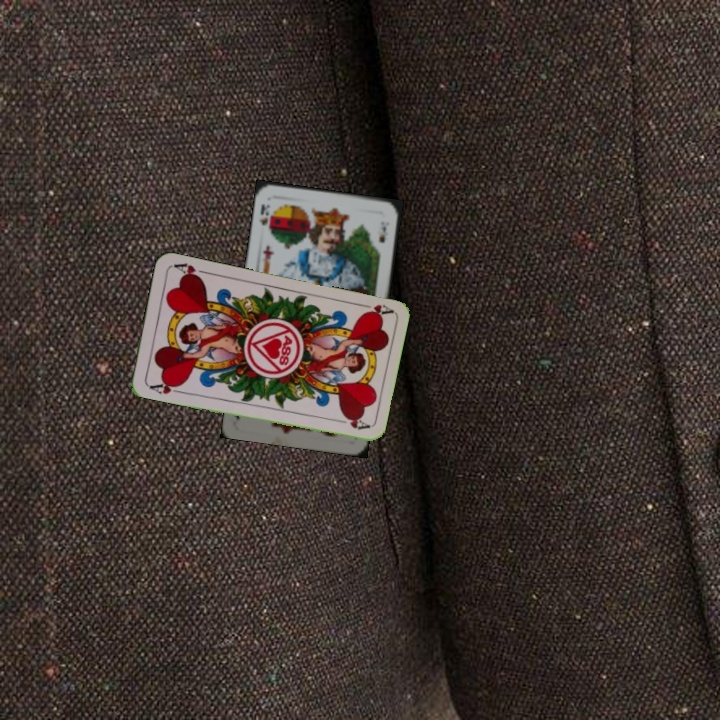HA: (354, 299, 394, 320), (144, 377, 185, 397)
SK: (255, 200, 272, 228)
